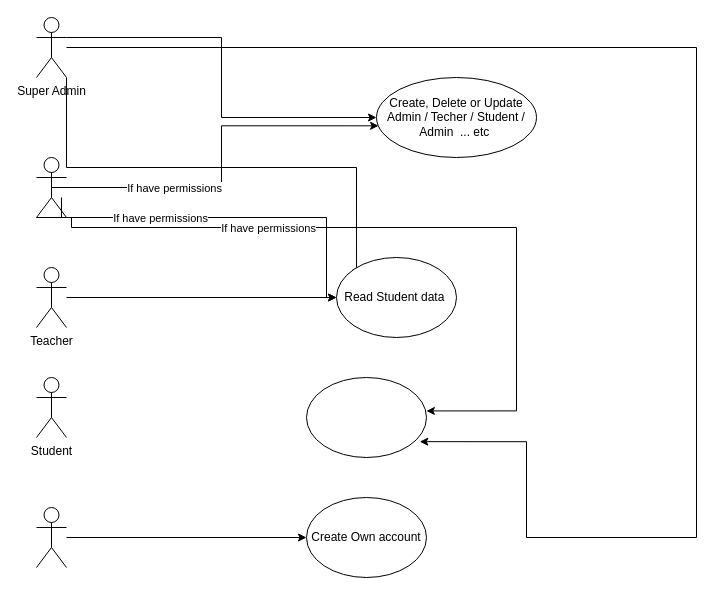
This 722x606 diagram has some shape labels left out. Here are the shapes that lost their labels. From the top down, the box of each, then its label:
(36, 156, 66, 218): Admin
(306, 376, 426, 458): Create Accounts for Admins / Teachers / Students
(36, 506, 66, 568): user
